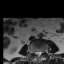CCS_normal: (38, 49, 39, 59)
LFS_stenosis: (41, 48, 44, 55)
LLS_normal: (39, 48, 41, 57)
RFS_normal: (34, 49, 36, 56)
RLS_normal: (36, 48, 38, 58)
